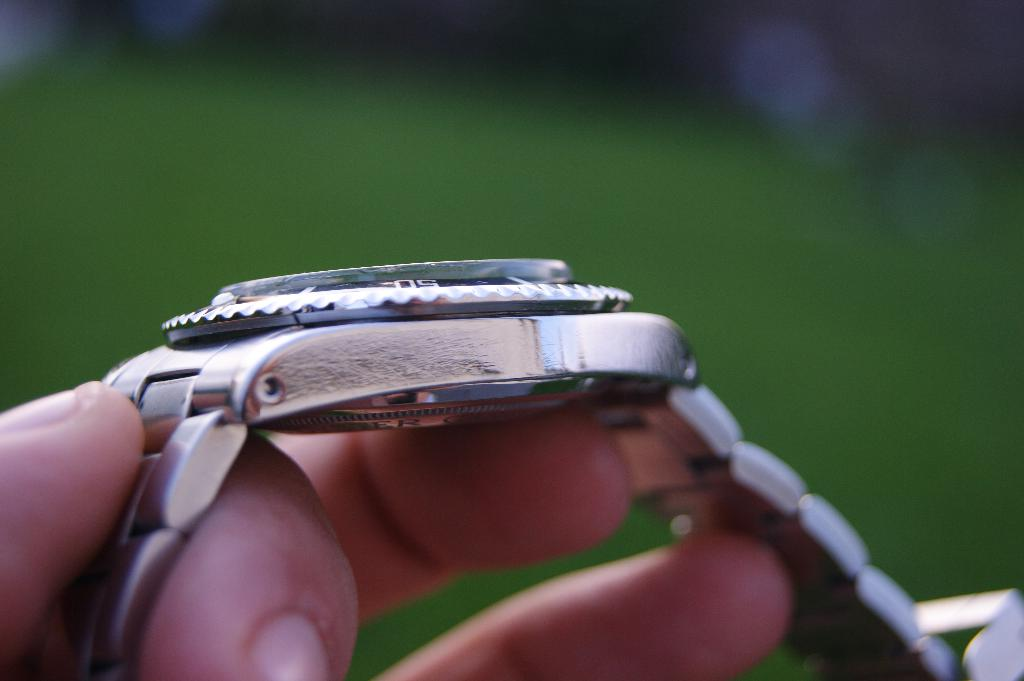Human_hand: (0, 376, 801, 680)
